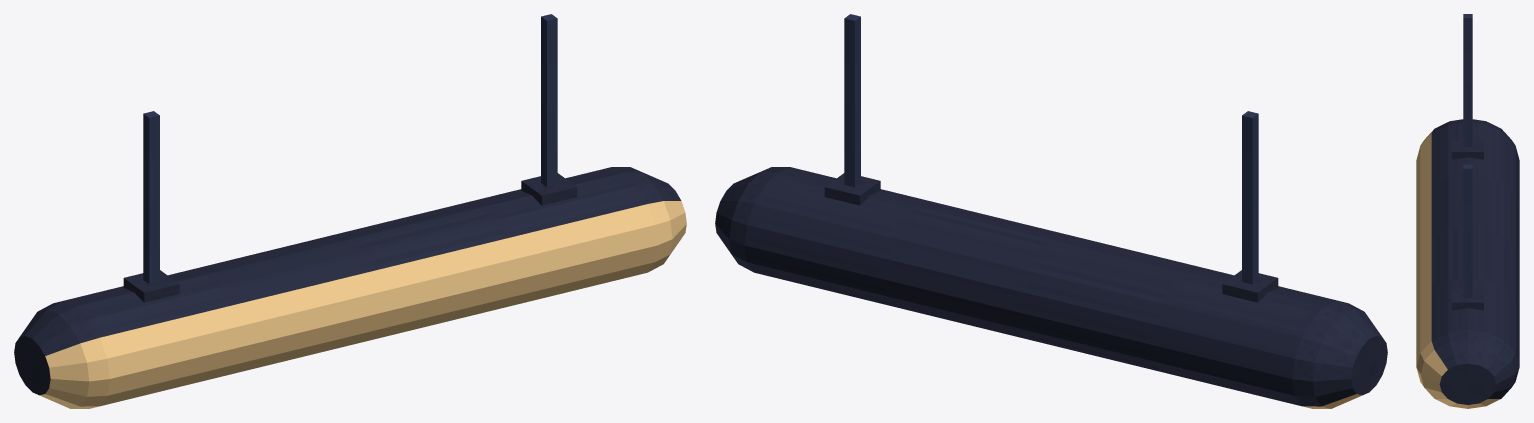
Rendered from SM_Lamp.fbx.
3 renders of one model, left to right at view 1: azimuth 30°, elevation 25°; view 2: azimuth 150°, elevation 25°; view 3: azimuth 270°, elevation 25°, orthographic. The views are drawn at different scales.
Parts seen in each view (by area): view 1: SM_Lamp; view 2: SM_Lamp; view 3: SM_Lamp.
Boxes of the visible parts, box(x1,y1,x2,y2) form: SM_Lamp: box(14, 14, 686, 408); SM_Lamp: box(715, 14, 1387, 408); SM_Lamp: box(1416, 14, 1519, 408).
Size of the model in its own units: 1.44 by 0.585 by 0.26.
2 materials, 2 textured.
